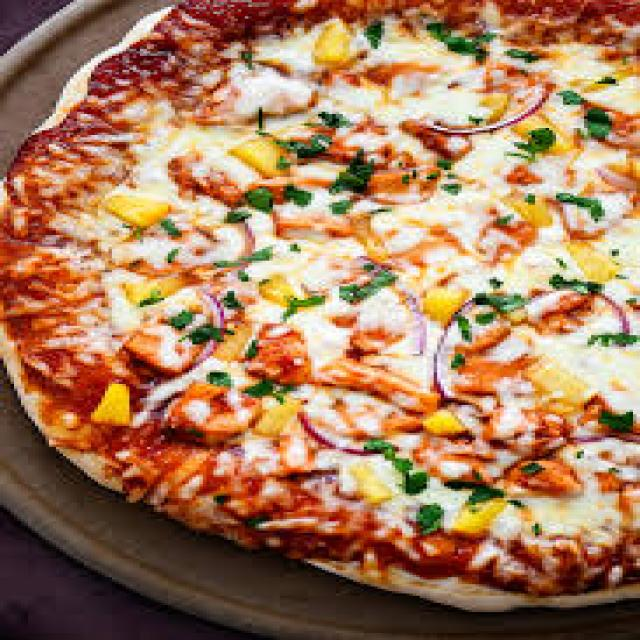피자: (0, 0, 640, 617)
